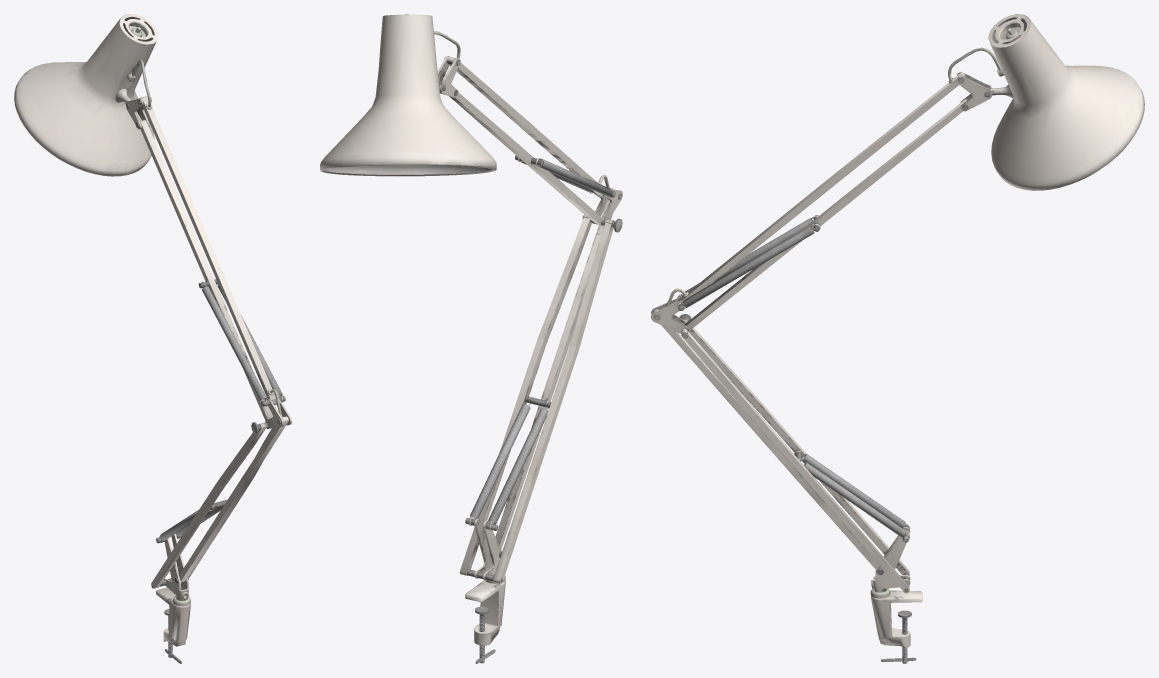
Rendered from lamp.gltf.
3 renders of one model, left to right at view 1: azimuth 30°, elevation 25°; view 2: azimuth 150°, elevation 25°; view 3: azimuth 270°, elevation 25°, orthographic. The views are drawn at different scales.
Parts seen in each view (by area): view 1: lamp; view 2: lamp; view 3: lamp.
Part boxes in pixels (x1,y1,x2,y2): lamp: [14, 14, 291, 663]; lamp: [320, 14, 622, 663]; lamp: [651, 14, 1144, 663].
Size of the model in its own units: 0.2017 by 0.8926 by 0.6139.
Materials: 2 (2 with a texture image).
